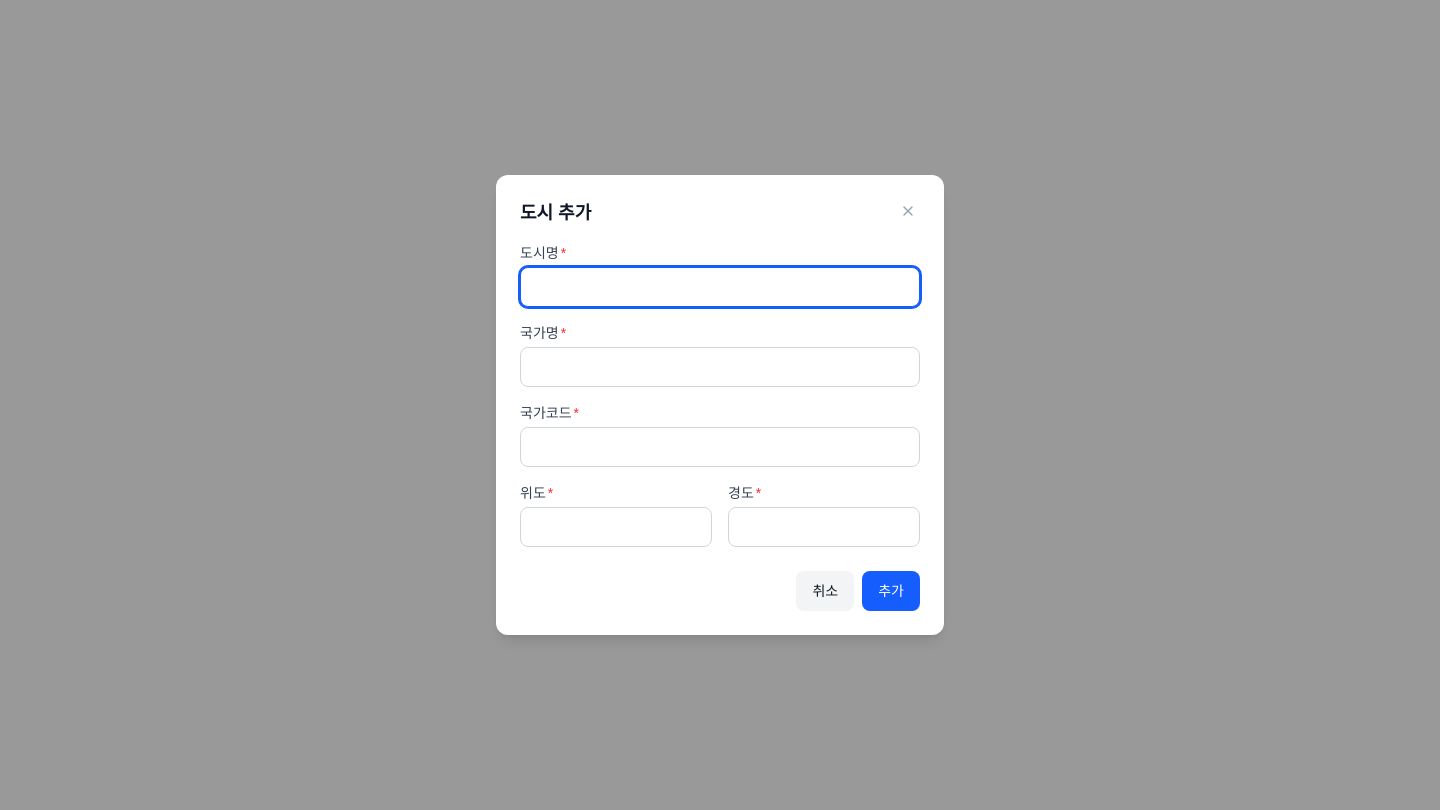
Scenario: CityFormModal - create mode (F3) › 필수 필드 누락 시 제출을 막고 필드별 인라인 에러를 표시한다 (F3 엣지케이스)
Click the button "추가": (891, 591) [862,571,920,611]
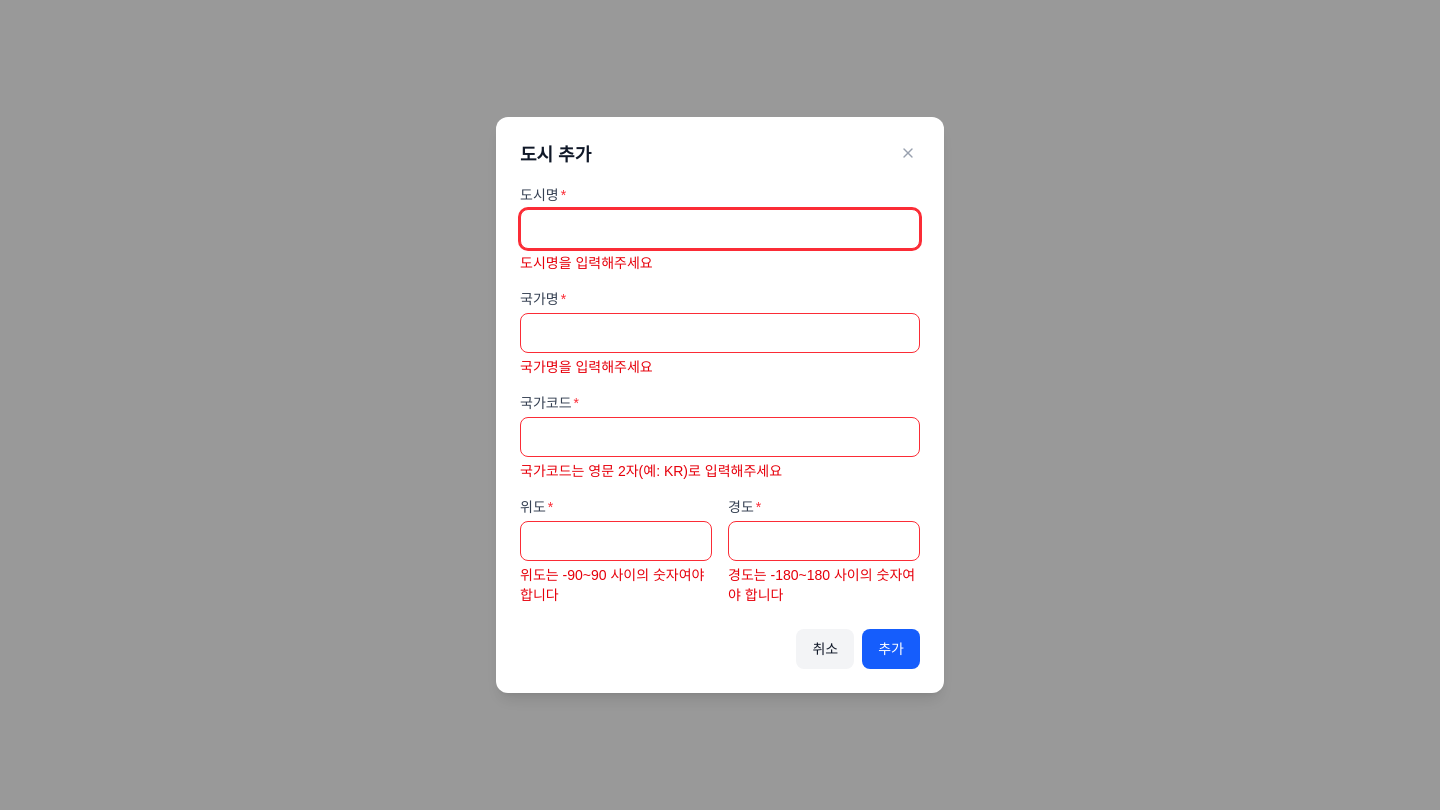
Result: the text "도시명을 입력해주세요" is shown at [520,255,653,271]
Result: the text "국가명을 입력해주세요" is shown at [520,359,653,375]
Result: the text "국가코드는 영문 2자(예: KR)로 입력해주세요" is shown at [520,463,782,479]
